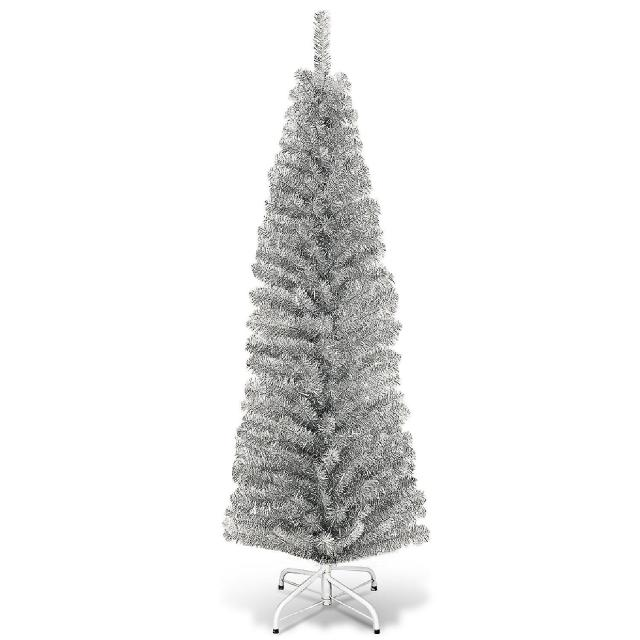Christmas-tree: (199, 0, 454, 569)
